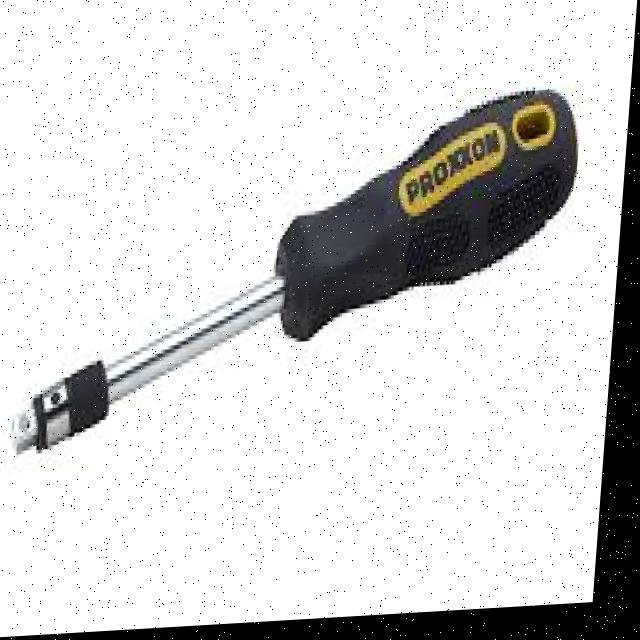Screwdriver: (21, 97, 582, 453)
